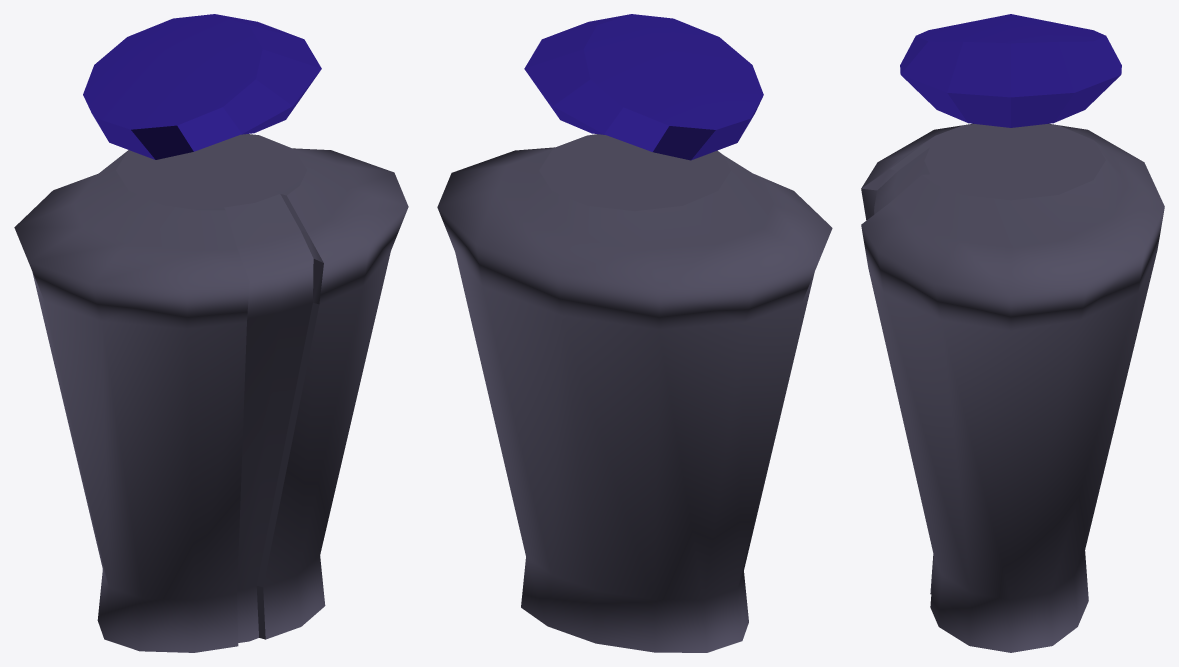
Rendered from guard1.fbx.
3 views of the same model, side by side, from view 1: azimuth 30°, elevation 25°; view 2: azimuth 150°, elevation 25°; view 3: azimuth 270°, elevation 25° (orthographic).
Visible parts, largest first — view 1: guard; view 2: guard; view 3: guard.
Boxes of the visible parts, x1,y1,x2,y2 form: guard: (14,14,408,652); guard: (437,14,832,652); guard: (861,14,1164,652).
Size of the model in its own units: 63.18 by 95.62 by 45.65.
Materials: 1 (1 with a texture image).
